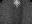person: (13, 1, 19, 8)
